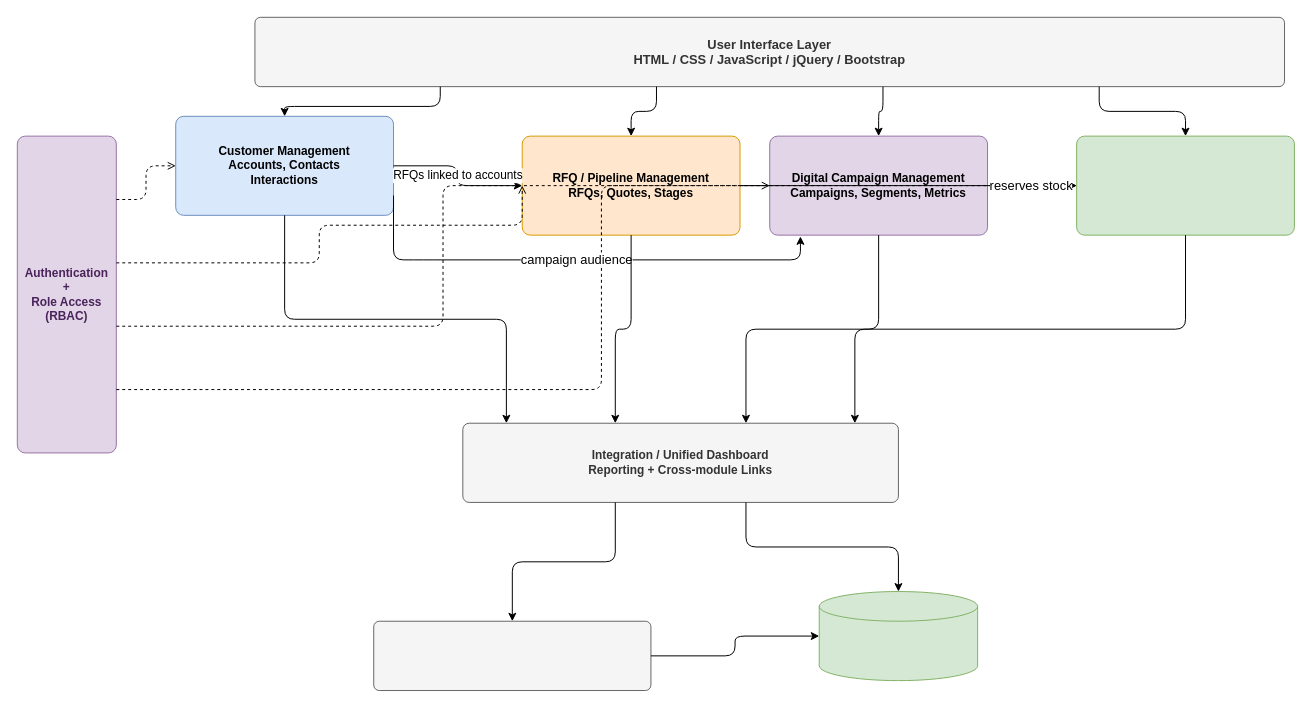
Some shapes in this 1312 by 708 pixel diagram are drawn without their labels. Each missing label, with the centre of its shape:
Inventory Management Products, Stock, Reservations: the point at 1185,185
MySQL Database: the point at 898,636
Shared PHP Includes / Services: the point at 512,655
